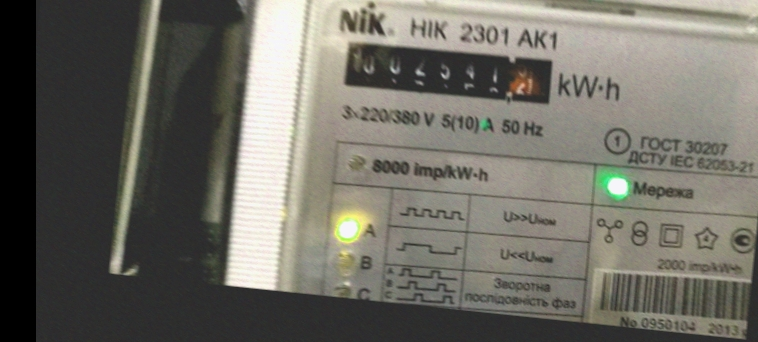0: (359, 47, 380, 75), (387, 47, 404, 75)
1: (487, 55, 502, 84)
2: (411, 50, 430, 76)
4: (463, 54, 478, 78)
5: (436, 51, 457, 81)
6: (513, 75, 530, 95)
screen: (331, 23, 570, 117)
